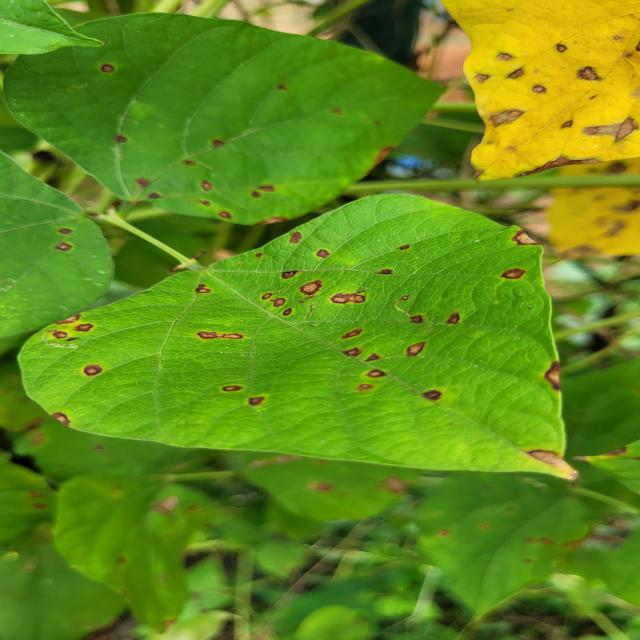Dolicos bean_cercospora leaf spot: (20, 192, 569, 477), (0, 3, 440, 228), (396, 459, 636, 621), (424, 0, 640, 176), (40, 467, 240, 631)
